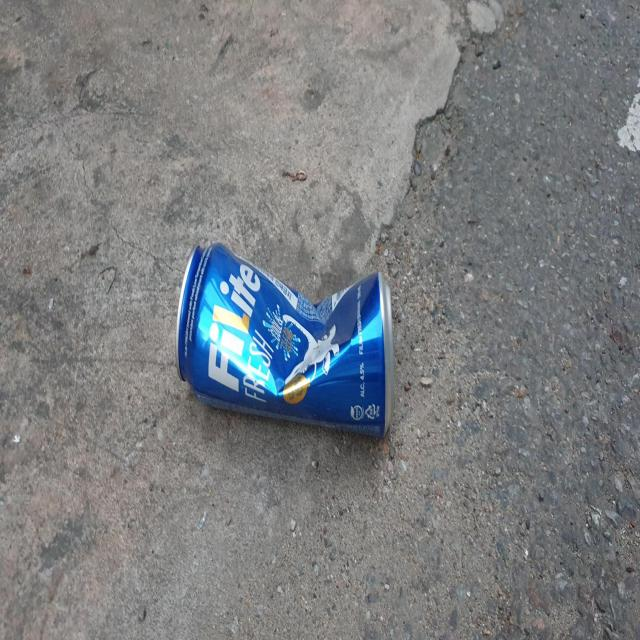can: (176, 242, 394, 436)
